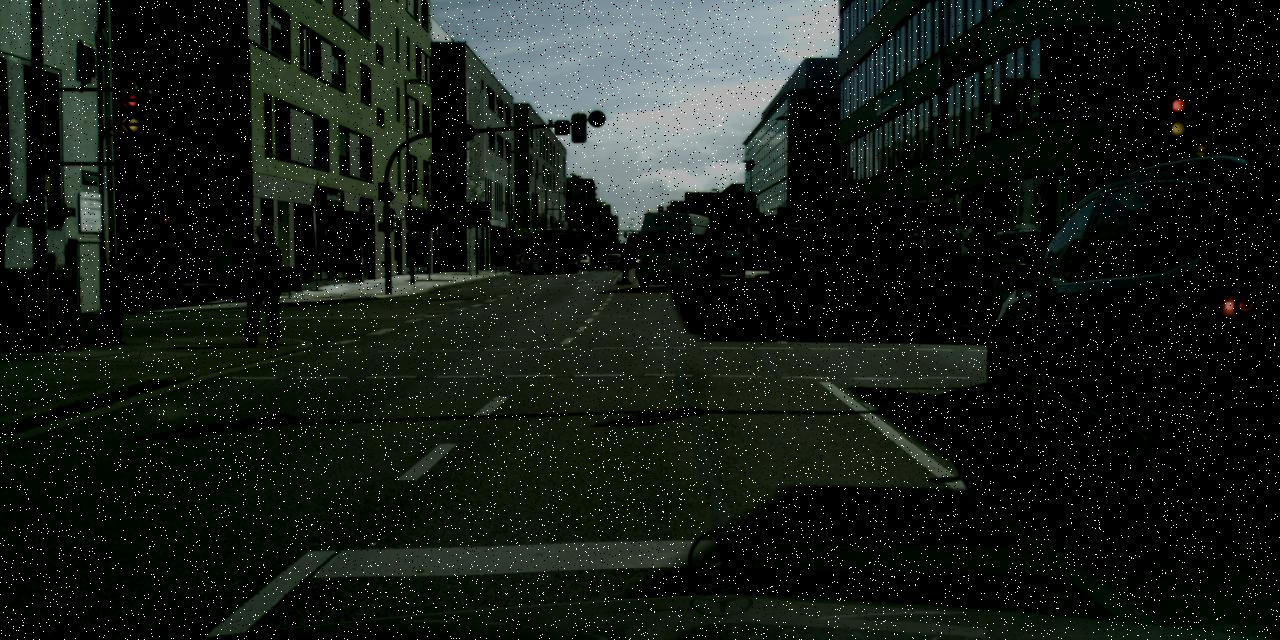ped: (239, 223, 288, 345), (350, 240, 366, 281), (594, 252, 600, 270)
